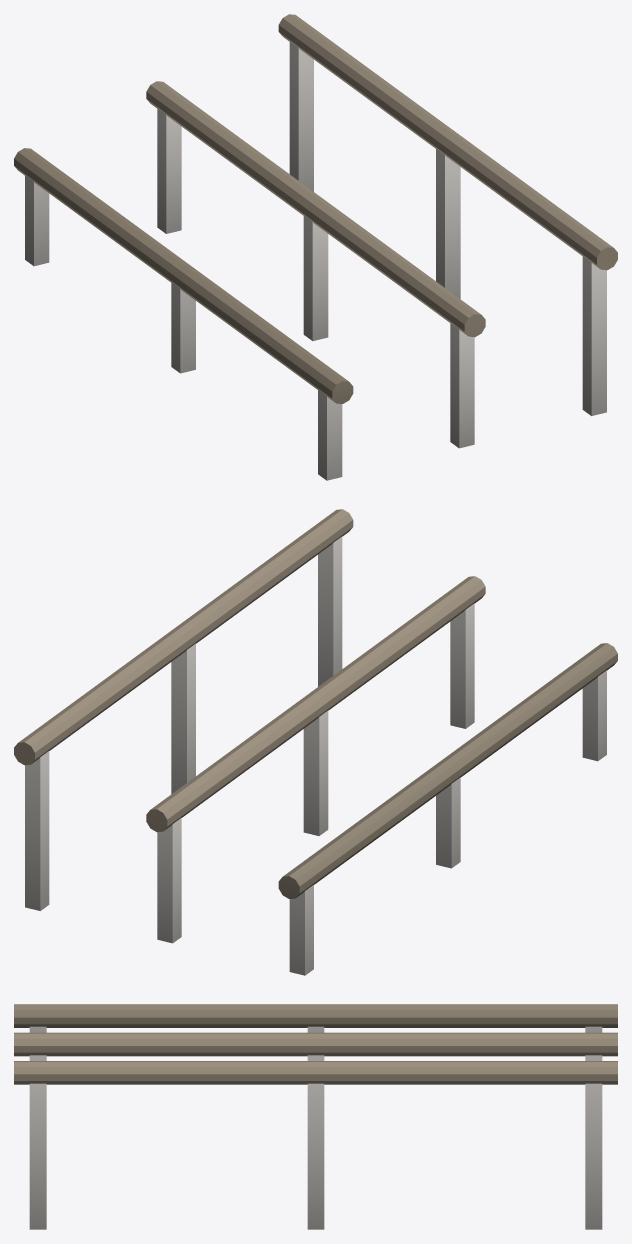
The model's file is obstacle_balance.glb.
3 views of the same model, one above another, from view 1: azimuth 30°, elevation 25°; view 2: azimuth 150°, elevation 25°; view 3: azimuth 270°, elevation 25° (orthographic). The views are drawn at different scales.
Parts seen in each view (by area): view 1: obstacle_balance_LOD0; view 2: obstacle_balance_LOD0; view 3: obstacle_balance_LOD0.
Part boxes in pixels (left/top/right/bottom): obstacle_balance_LOD0: left=14, top=14, right=617, bottom=480; obstacle_balance_LOD0: left=14, top=509, right=617, bottom=975; obstacle_balance_LOD0: left=14, top=1004, right=617, bottom=1229.
Size of what is drawn, in the model's own units: 2.59 by 1.5 by 5.
